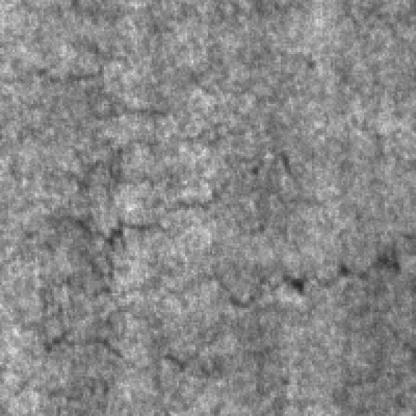crazing: (200, 125, 397, 324), (17, 264, 387, 366), (48, 137, 224, 254)
